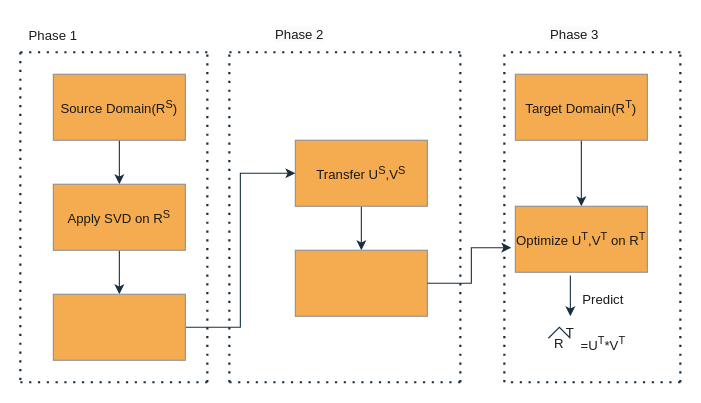
This 701x403 diagram has some shape labels left out. Each missing label, with the centre of its shape:
"Compute U S ,V S" goes at pixel 118 326.
"Scale shared factor" goes at pixel 360 282.
